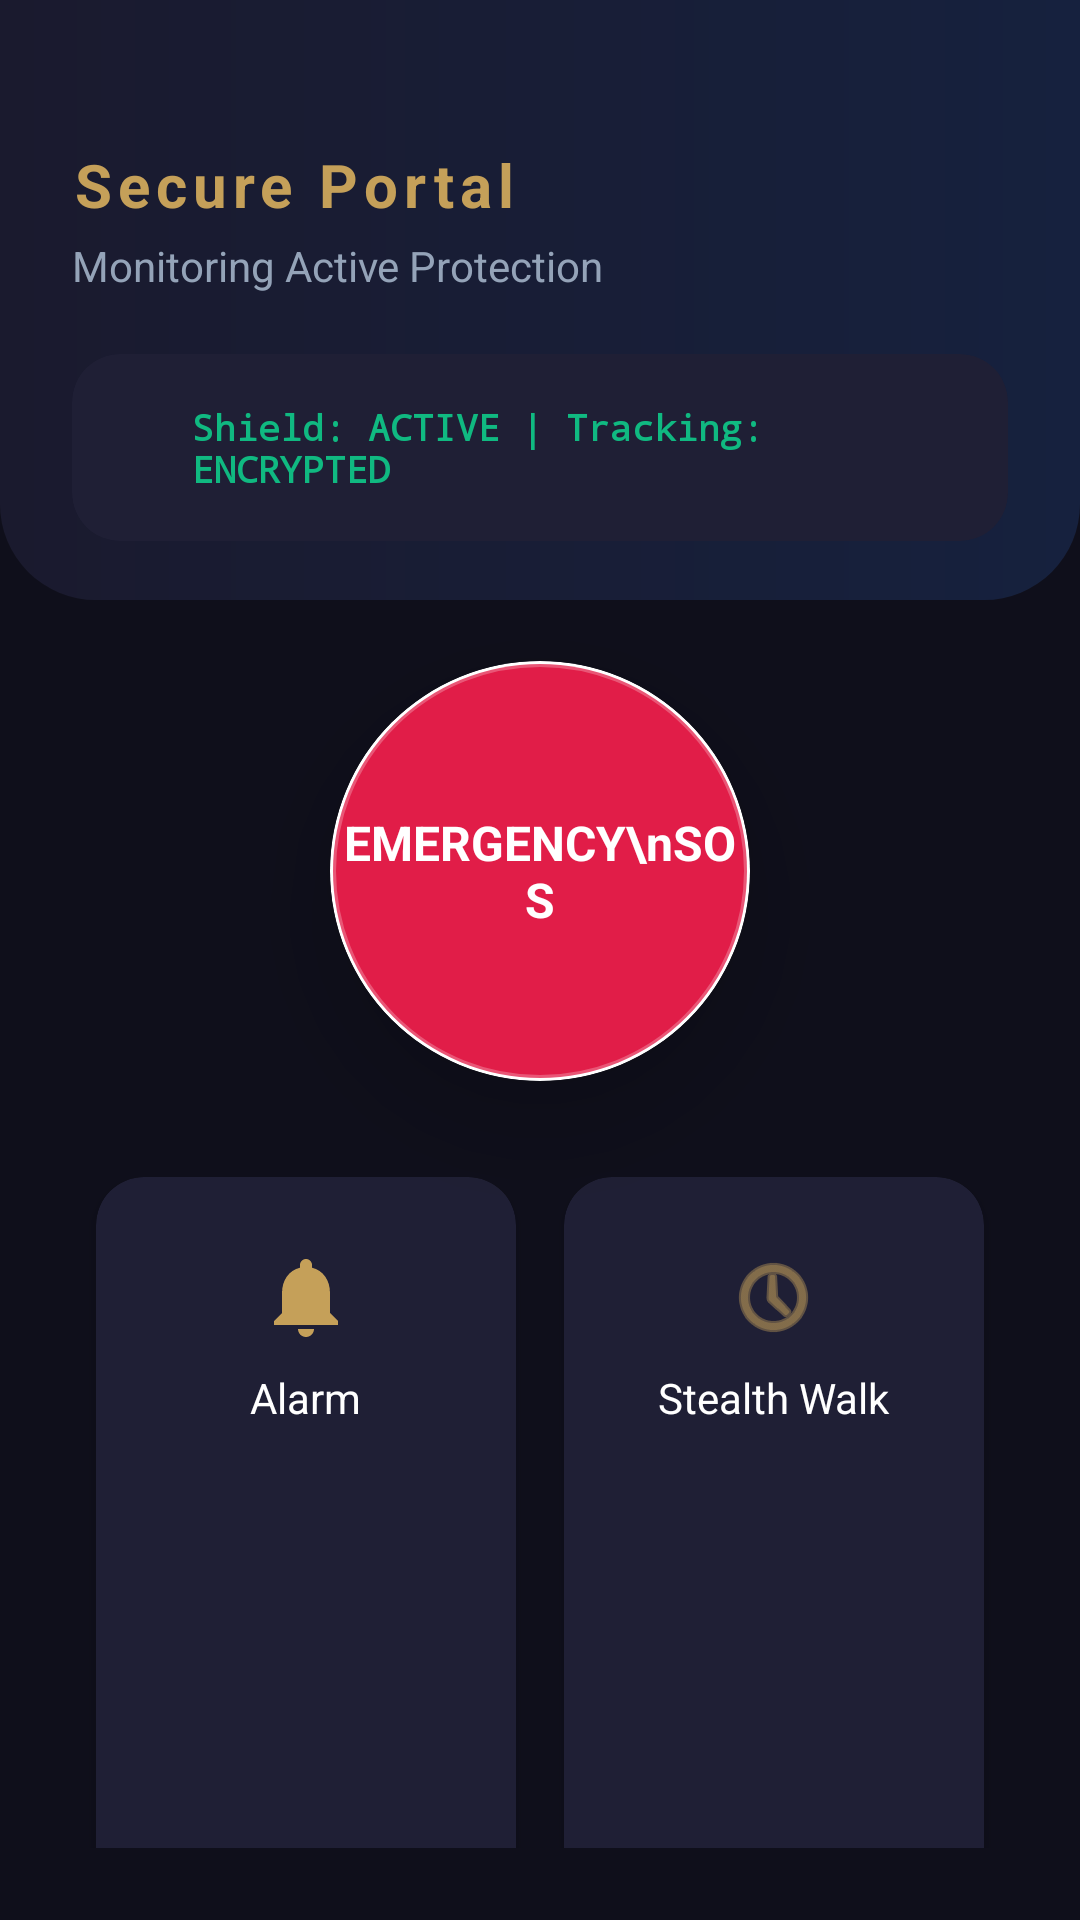

Named icons in this screenshot (1080×1920) and their bounding boxes, (x1, y1, x2, y2):
recent history: (739, 1263, 808, 1332)
